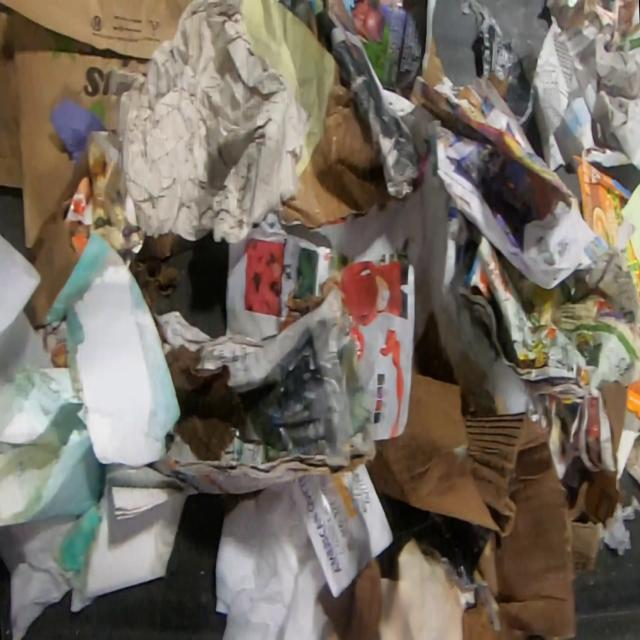cardboard: (365, 369, 619, 640), (148, 284, 376, 497), (274, 57, 398, 228), (567, 144, 640, 305), (22, 179, 96, 327), (458, 0, 536, 131), (590, 377, 640, 493), (316, 555, 384, 640), (420, 34, 448, 87)
soft_plastic: (596, 493, 640, 556)
